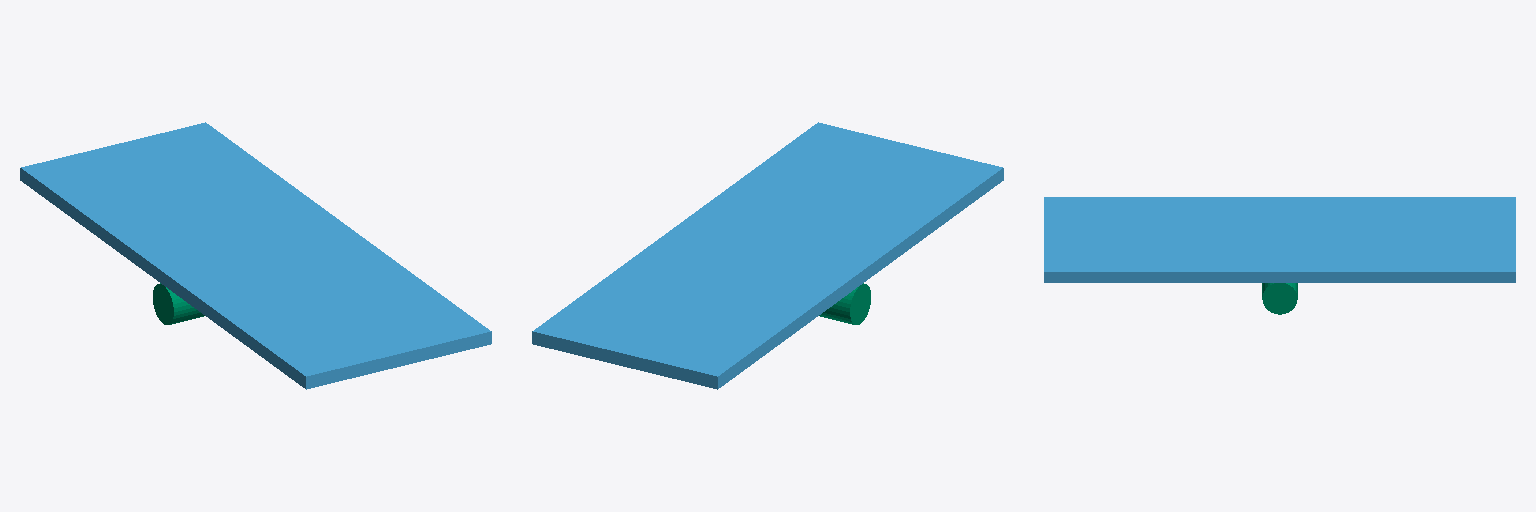
The robot description file, URDF, robot "bongo_board_skeleton":
<?xml version="1.0"?>
<robot name="bongo_board_skeleton">
    <link name="world" />

    <link name="board">
        <inertial>
            <mass value="0.453" />
            <origin xyz="0 0 0" rpy="0 0 0"/>
            <inertia ixx="0.003398" ixy="0" ixz="0" iyy="0.000849" iyz="0" izz="0.004247" />
        </inertial>
        <visual>
            <origin xyz="0 0 0" rpy="0 0 0" />
            <geometry>
                <box size="0.15 0.4 0.01" />
            </geometry>
        </visual>
        <collision>
            <origin xyz="0 0 0" rpy="0 0 0" />
            <geometry>
                <box size="0.15 0.4 0.01" />
            </geometry>
        </collision>
    </link>

    <link name="support">
        <inertial>
            <mass value="0.151" />
            <origin xyz="0 0 -0.04" rpy="0 1.57 0" />
            <inertia ixx="0.000067" ixy="0" ixz="0" iyy="0.0000618" iyz="0" izz="0.0000618" />
        </inertial>
        <visual>
            <origin xyz="0 0 -0.02" rpy="0 1.57 0" />
            <geometry>
                <cylinder length="0.15" radius="0.015"/>
            </geometry>
        </visual>
        <collision>
            <origin xyz="0 0 -0.02" rpy="0 1.57 0" />
            <geometry>
                <cylinder length="0.15" radius="0.015"/>
            </geometry>
        </collision>
    </link>


    <joint name="jt1" type="floating">
        <parent link="world"/>
        <child link="support"/>
        <origin rpy="0 0 0" xyz="0 0 -0.31"/>
    </joint>

    <joint name="jt2" type="fixed">
        <parent link="support"/>
        <child link="board"/>
    </joint>

</robot>

--- What the picture shows (computed from the rendered views, not written in the file) ---
3 views of the same robot in one strip: view 1: azimuth 30°, elevation 25°; view 2: azimuth 150°, elevation 25°; view 3: azimuth 270°, elevation 25° (orthographic).
Model bongo_board_skeleton with 3 links and 2 joints (1 fixed, 1 floating), rooted at world, posed all joints at 0.
Links seen in each view (by area): view 1: board, support; view 2: board, support; view 3: board, support.
Link boxes in pixels (bbox=[...]): board: bbox=[20, 122, 491, 389]; support: bbox=[153, 283, 204, 324]; board: bbox=[532, 122, 1003, 389]; support: bbox=[819, 283, 870, 324]; board: bbox=[1044, 197, 1515, 282]; support: bbox=[1262, 283, 1297, 314].
Bounding box of the posed robot: 0.15 × 0.4 × 0.0401 m (x, y, z).
Geometry: primitives only (box / cylinder / sphere), no mesh files.
